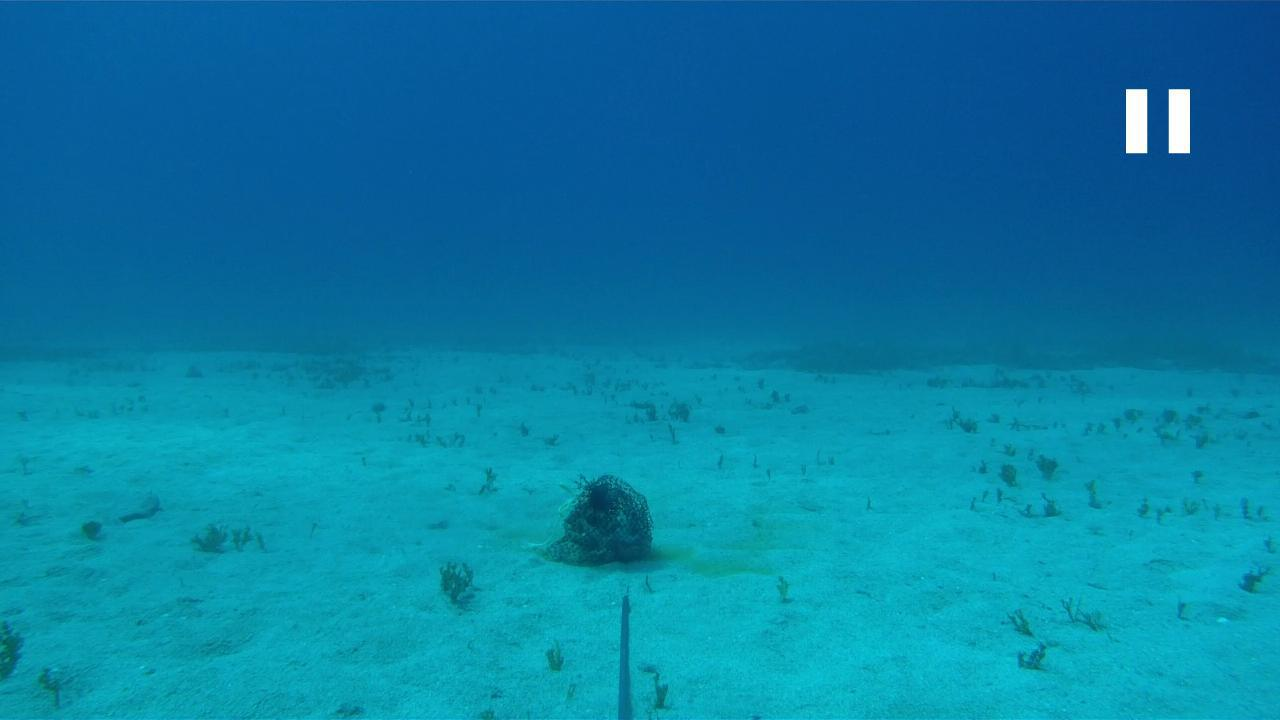bothus: (117, 484, 160, 525)
